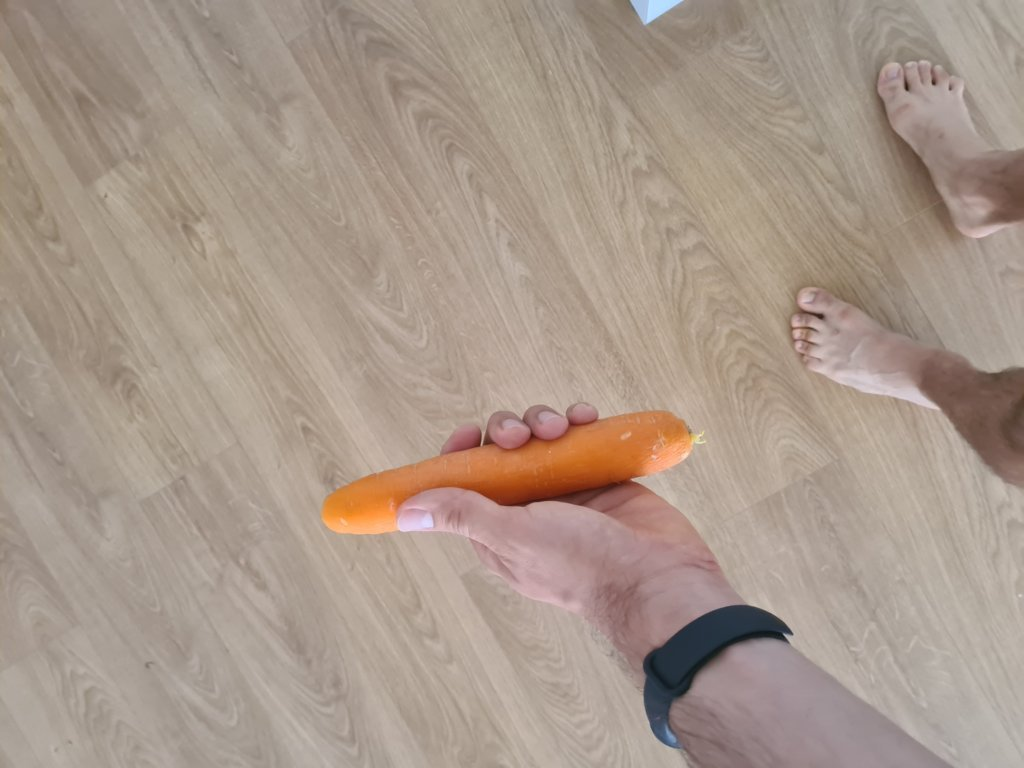carrot: (329, 405, 699, 534)
